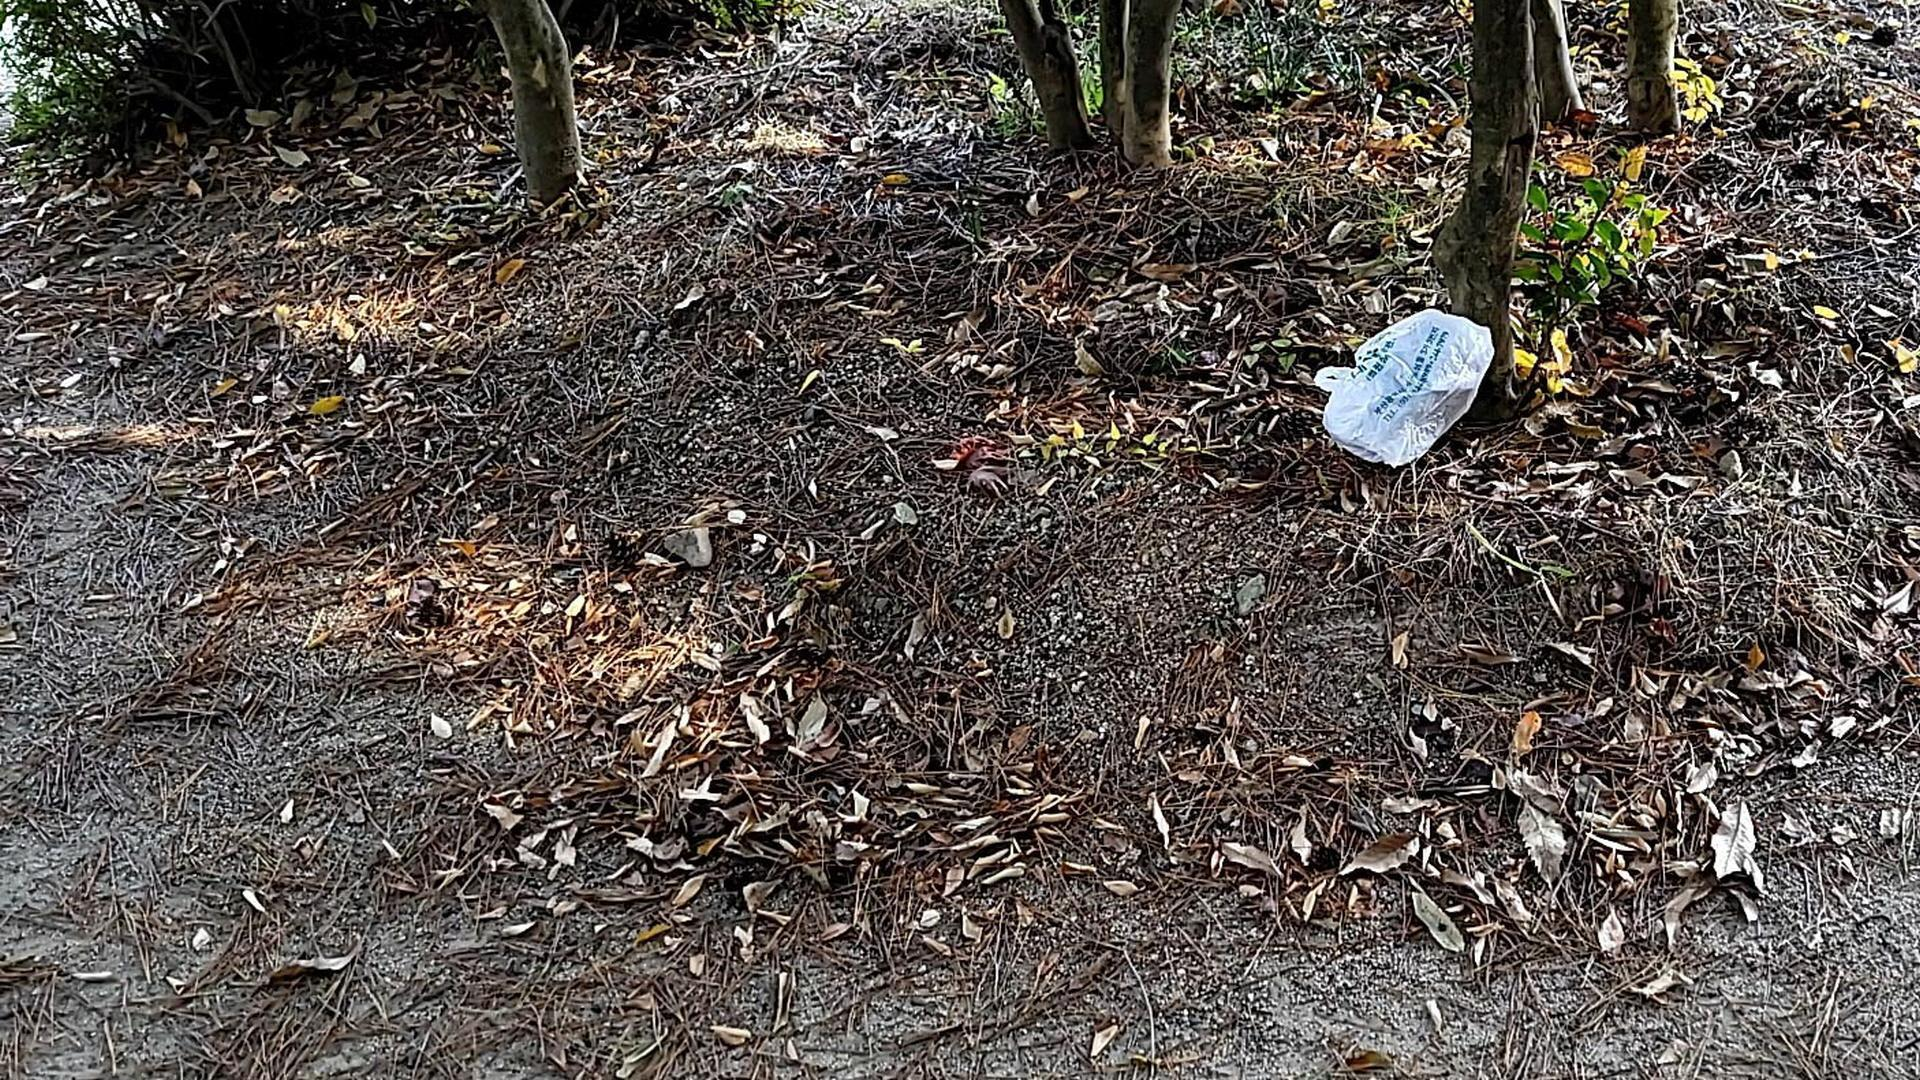white_bag: (1291, 299, 1493, 473)
